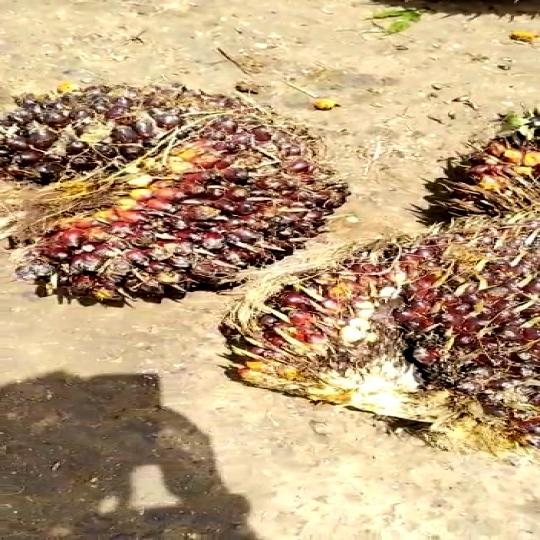kurang masak: (0, 60, 334, 332), (229, 213, 540, 473)
